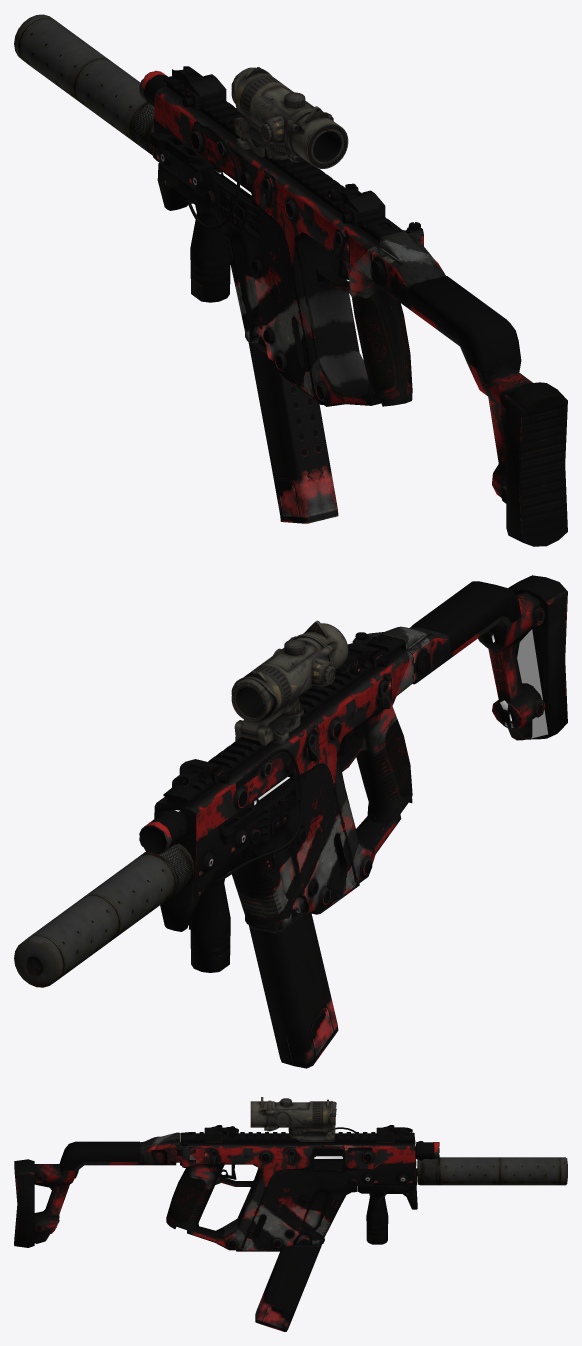
Rendered from Vector .45 ACP Custom.dae.
3 renders of one model, top to bottom at view 1: azimuth 30°, elevation 25°; view 2: azimuth 150°, elevation 25°; view 3: azimuth 270°, elevation 25°, orthographic. The views are drawn at different scales.
Parts seen in each view (by area): view 1: group_4 (×2), group_2 (×3), group_3 (×3), instance_3, instance_2, group_1 (×4); view 2: group_4 (×2), group_3 (×3), group_2 (×5), instance_3, instance_2, group_1 (×3); view 3: group_4 (×2), group_3 (×2), group_2 (×3), instance_3, instance_2, group_1 (×3).
Boxes of the visible parts, x1,y1,x2,y2 form: group_4 (×2): (154,86,532,497); group_2 (×3): (157,163,567,546); group_3 (×3): (153,121,338,523); instance_3: (14,14,154,155); instance_2: (231,67,348,168); group_1 (×4): (149,74,403,241); group_4 (×2): (154,592,541,884); group_3 (×3): (179,764,356,1068); group_2 (×5): (160,575,567,972); instance_3: (14,843,194,987); instance_2: (231,620,348,745); group_1 (×3): (139,635,404,855); group_4 (×2): (34,1132,415,1250); group_3 (×2): (242,1159,416,1331); group_2 (×3): (14,1141,417,1247); instance_3: (417,1157,567,1185); instance_2: (250,1097,336,1141); group_1 (×3): (180,1132,439,1171).
Size of the model in its own units: 1237 by 14103 by 6501.
